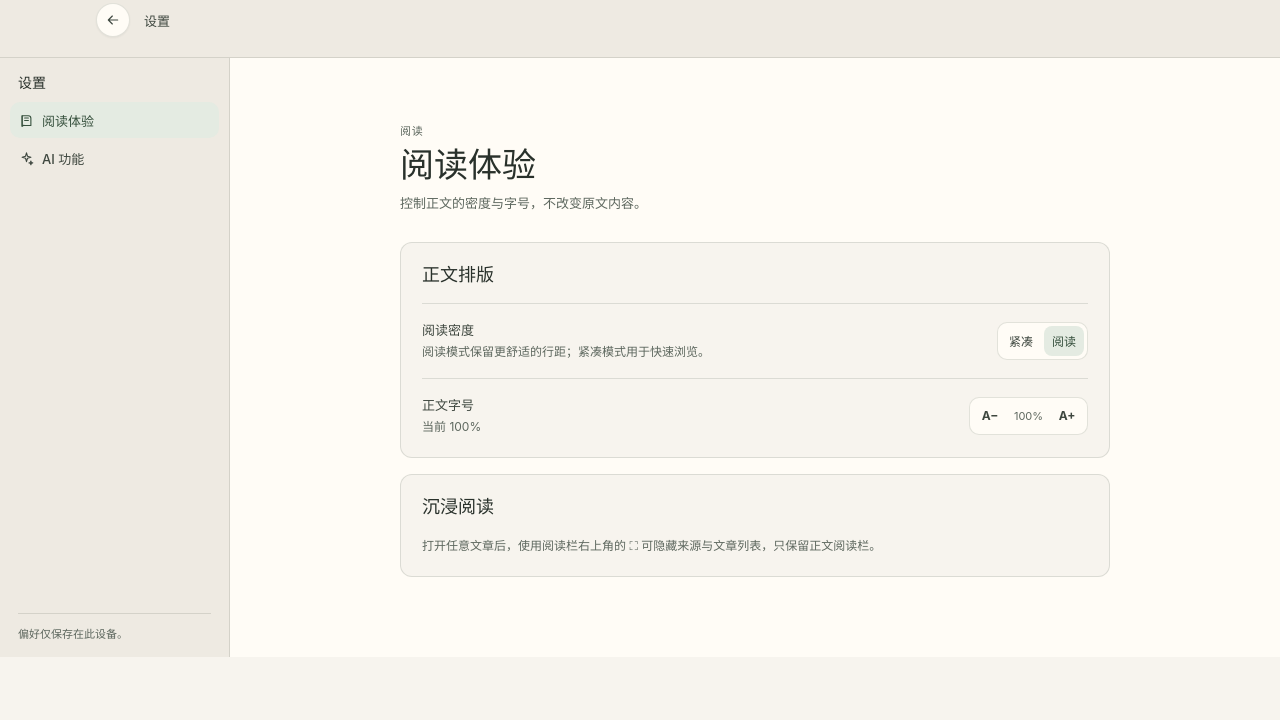
Test: AI settings request lifetime › retains the provider and allows retry after clear fails
Click the button "AI 功能" at (114, 158), box [10,140,219,176]
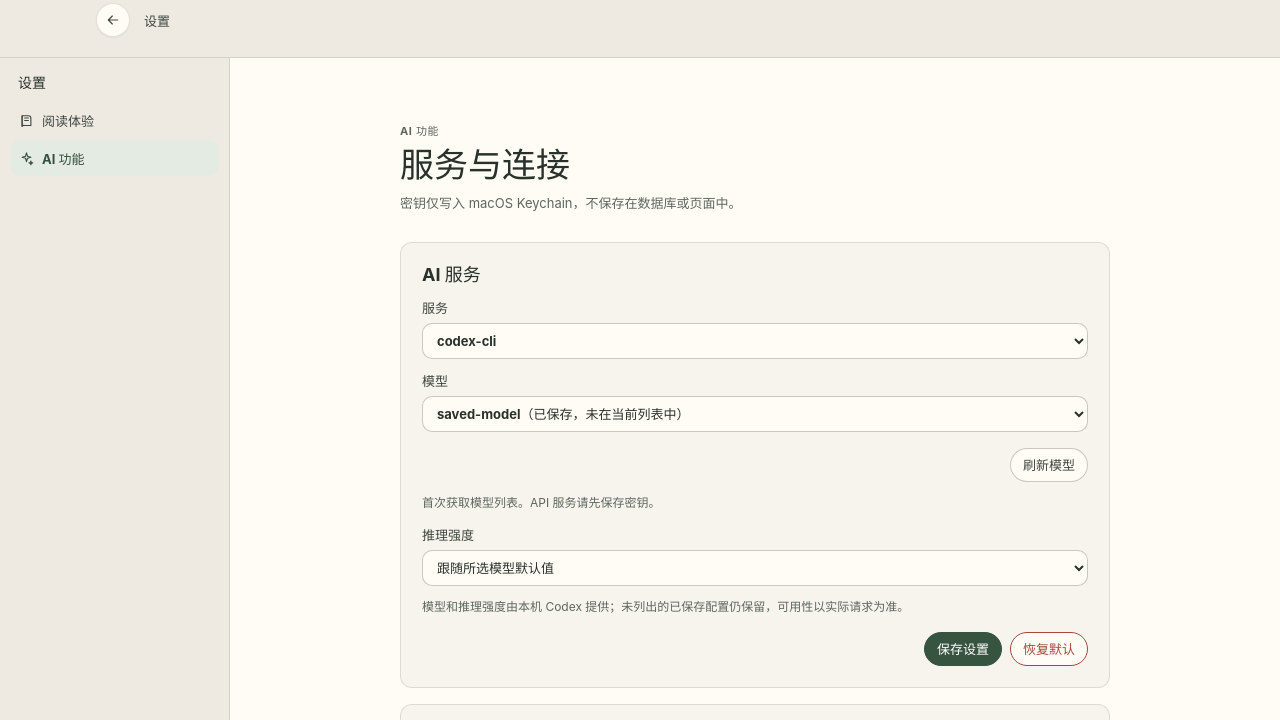
Select "openai" in the dropdown labelled "服务" at (755, 341), box [422,323,1088,359]
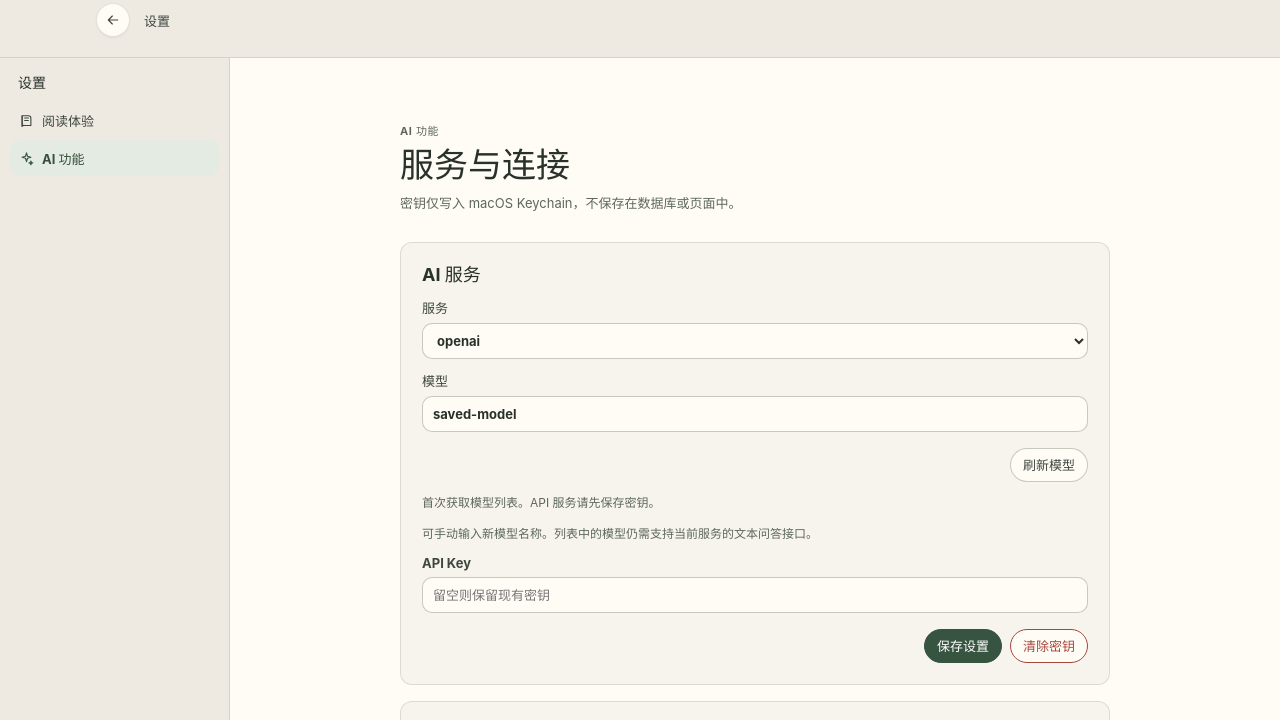
Click the button with class "danger" at (1049, 646), box [1010,629,1088,663]
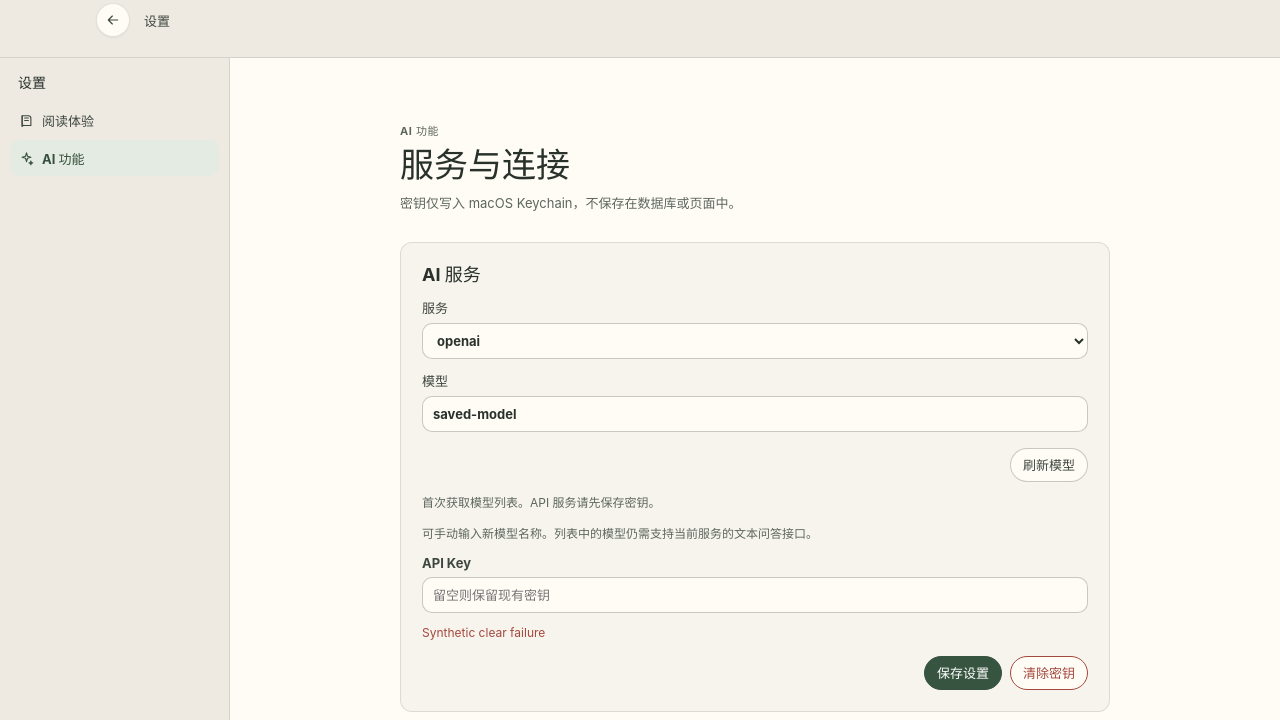
Now the message with class "error" reads "Synthetic clear failure", box [422,625,545,640]
Click the button with class "danger" at (1049, 673), box [1010,656,1088,690]
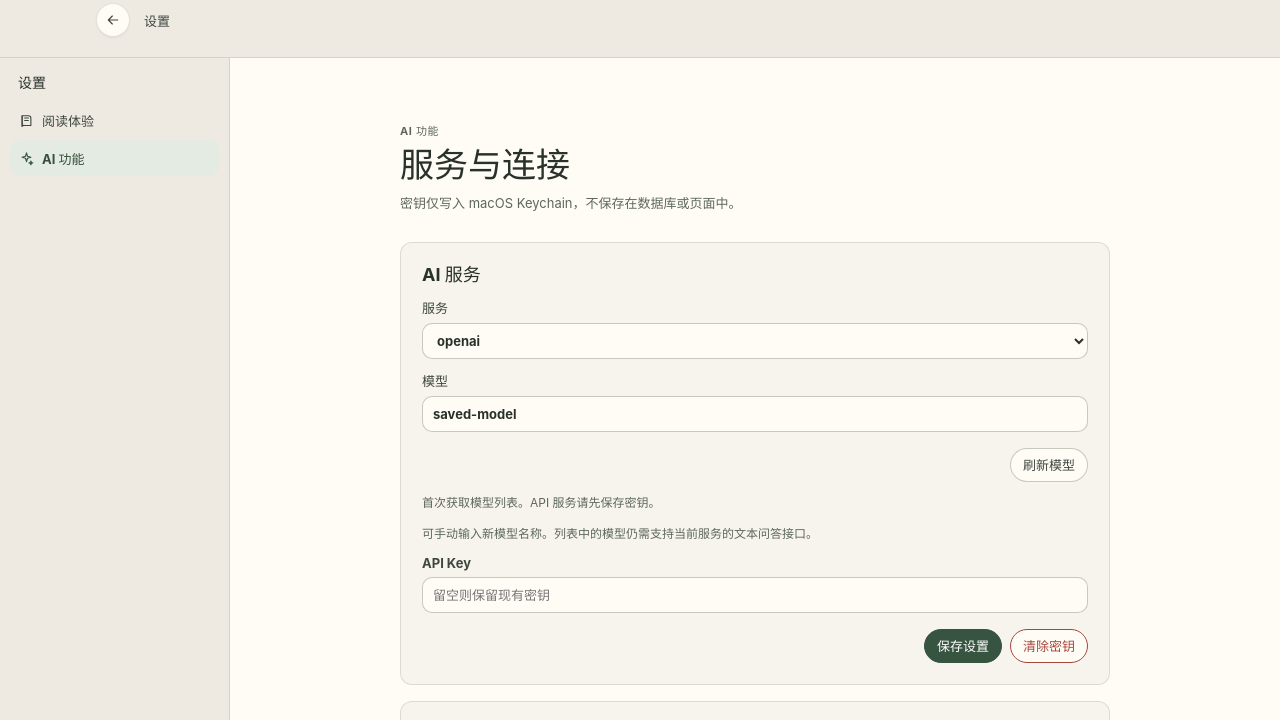
Now the message with class "error" is gone
